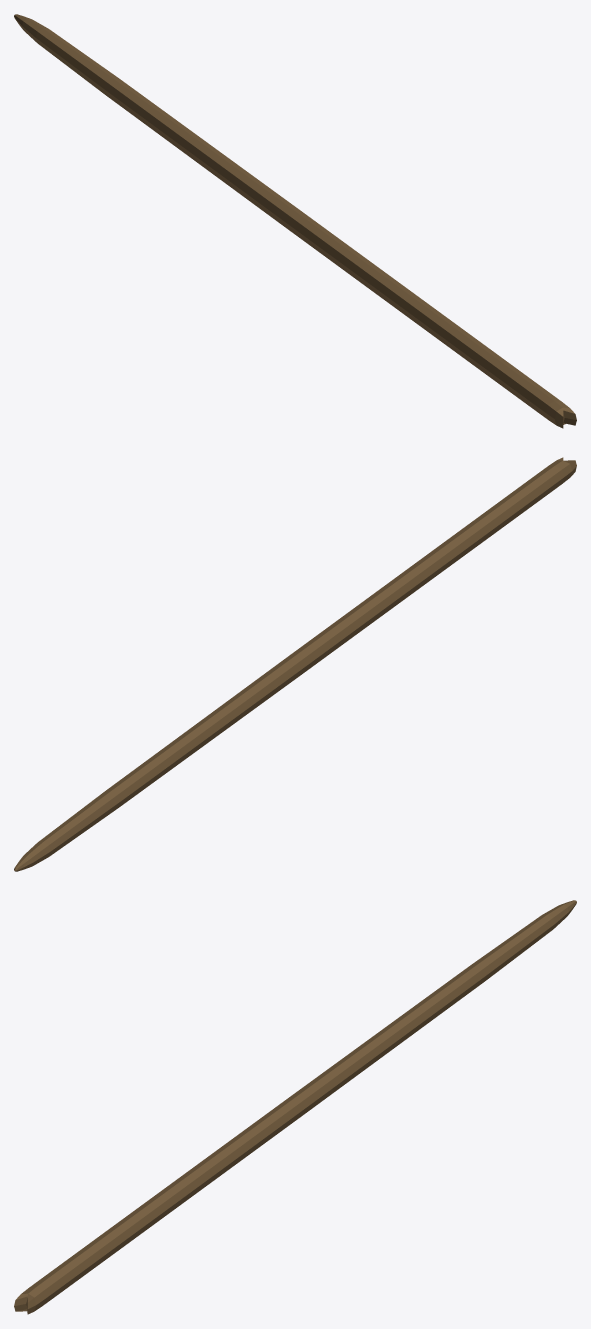
Rendered from Arrow.fbx.
3 renders of one model, top to bottom at view 1: azimuth 30°, elevation 25°; view 2: azimuth 150°, elevation 25°; view 3: azimuth 330°, elevation 25°, orthographic.
Parts seen in each view (by area): view 1: Cube; view 2: Cube; view 3: Cube.
Boxes of the visible parts, x1,y1,x2,y2 form: Cube: (14,14,576,428); Cube: (14,457,576,871); Cube: (14,900,576,1314).
Size of the model in its own units: 1.79 by 1.79 by 94.24.
